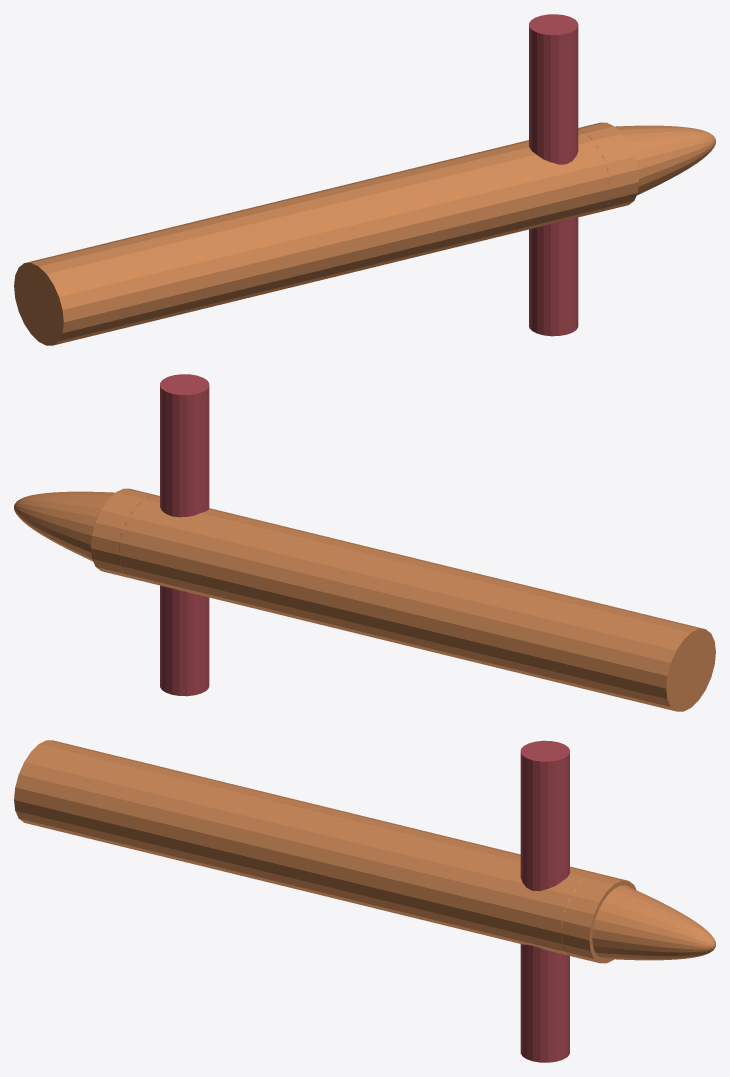
File: tong.glb
3 views of the same model, one above another, from view 1: azimuth 30°, elevation 25°; view 2: azimuth 150°, elevation 25°; view 3: azimuth 330°, elevation 25° (orthographic).
Visible parts, largest first — view 1: Mesh_Mesh_head_geo.001_lambert2SG.001; view 2: Mesh_Mesh_head_geo.001_lambert2SG.001; view 3: Mesh_Mesh_head_geo.001_lambert2SG.001.
Boxes of the visible parts, x1,y1,x2,y2 form: Mesh_Mesh_head_geo.001_lambert2SG.001: (14,14,715,345); Mesh_Mesh_head_geo.001_lambert2SG.001: (14,374,715,711); Mesh_Mesh_head_geo.001_lambert2SG.001: (14,740,715,1062).
Bounding box in the file's own units: 47 × 20 × 6.
